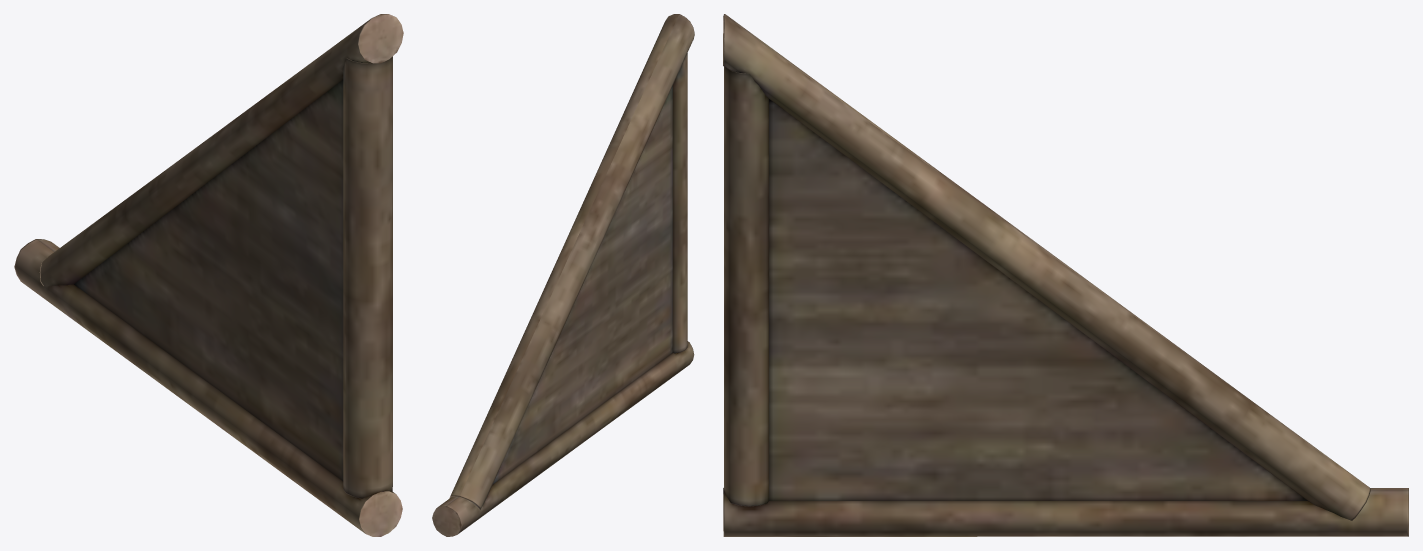
The model's file is SM_WallTryangle_Wood_aff751.glb.
3 views of the same model, side by side, from view 1: azimuth 30°, elevation 25°; view 2: azimuth 150°, elevation 25°; view 3: azimuth 270°, elevation 25° (orthographic). The views are drawn at different scales.
Size of the model in its own units: 0.3035 by 3.34 by 4.01.
Materials: 1 (1 with a texture image).
